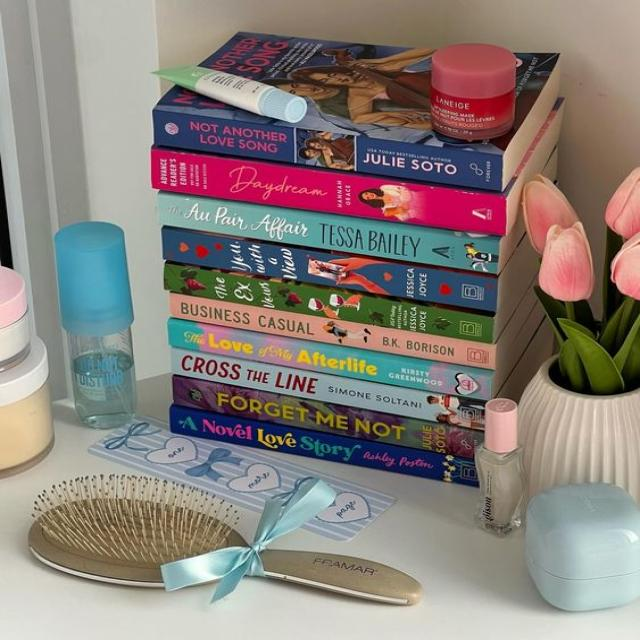book: (151, 148, 506, 235), (162, 228, 498, 312), (152, 111, 504, 189), (159, 195, 501, 275), (162, 262, 494, 344), (173, 377, 485, 461), (172, 292, 495, 372), (168, 320, 490, 398), (169, 408, 480, 487), (172, 352, 486, 430)
